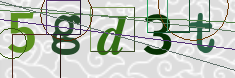3: (141, 12, 174, 58)
5: (5, 9, 40, 57)
d: (91, 14, 135, 58)
g: (48, 10, 85, 57)
t: (185, 10, 219, 55)
